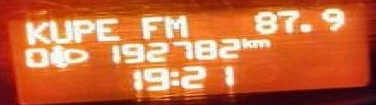-: (295, 21, 314, 33)
0: (23, 47, 48, 68)
1: (221, 63, 237, 87), (109, 44, 121, 64), (131, 69, 139, 90)
2: (182, 64, 208, 89), (145, 40, 169, 62), (218, 37, 239, 59)
7: (276, 8, 297, 33), (170, 39, 194, 59)
8: (249, 9, 276, 34), (193, 38, 217, 60)
9: (318, 6, 349, 31), (141, 66, 167, 90), (121, 42, 145, 63)
X: (91, 17, 122, 42), (162, 14, 191, 38), (47, 18, 72, 44), (23, 20, 48, 45), (138, 15, 162, 39), (72, 17, 93, 44), (169, 68, 181, 88), (251, 39, 270, 47), (239, 37, 252, 48)
